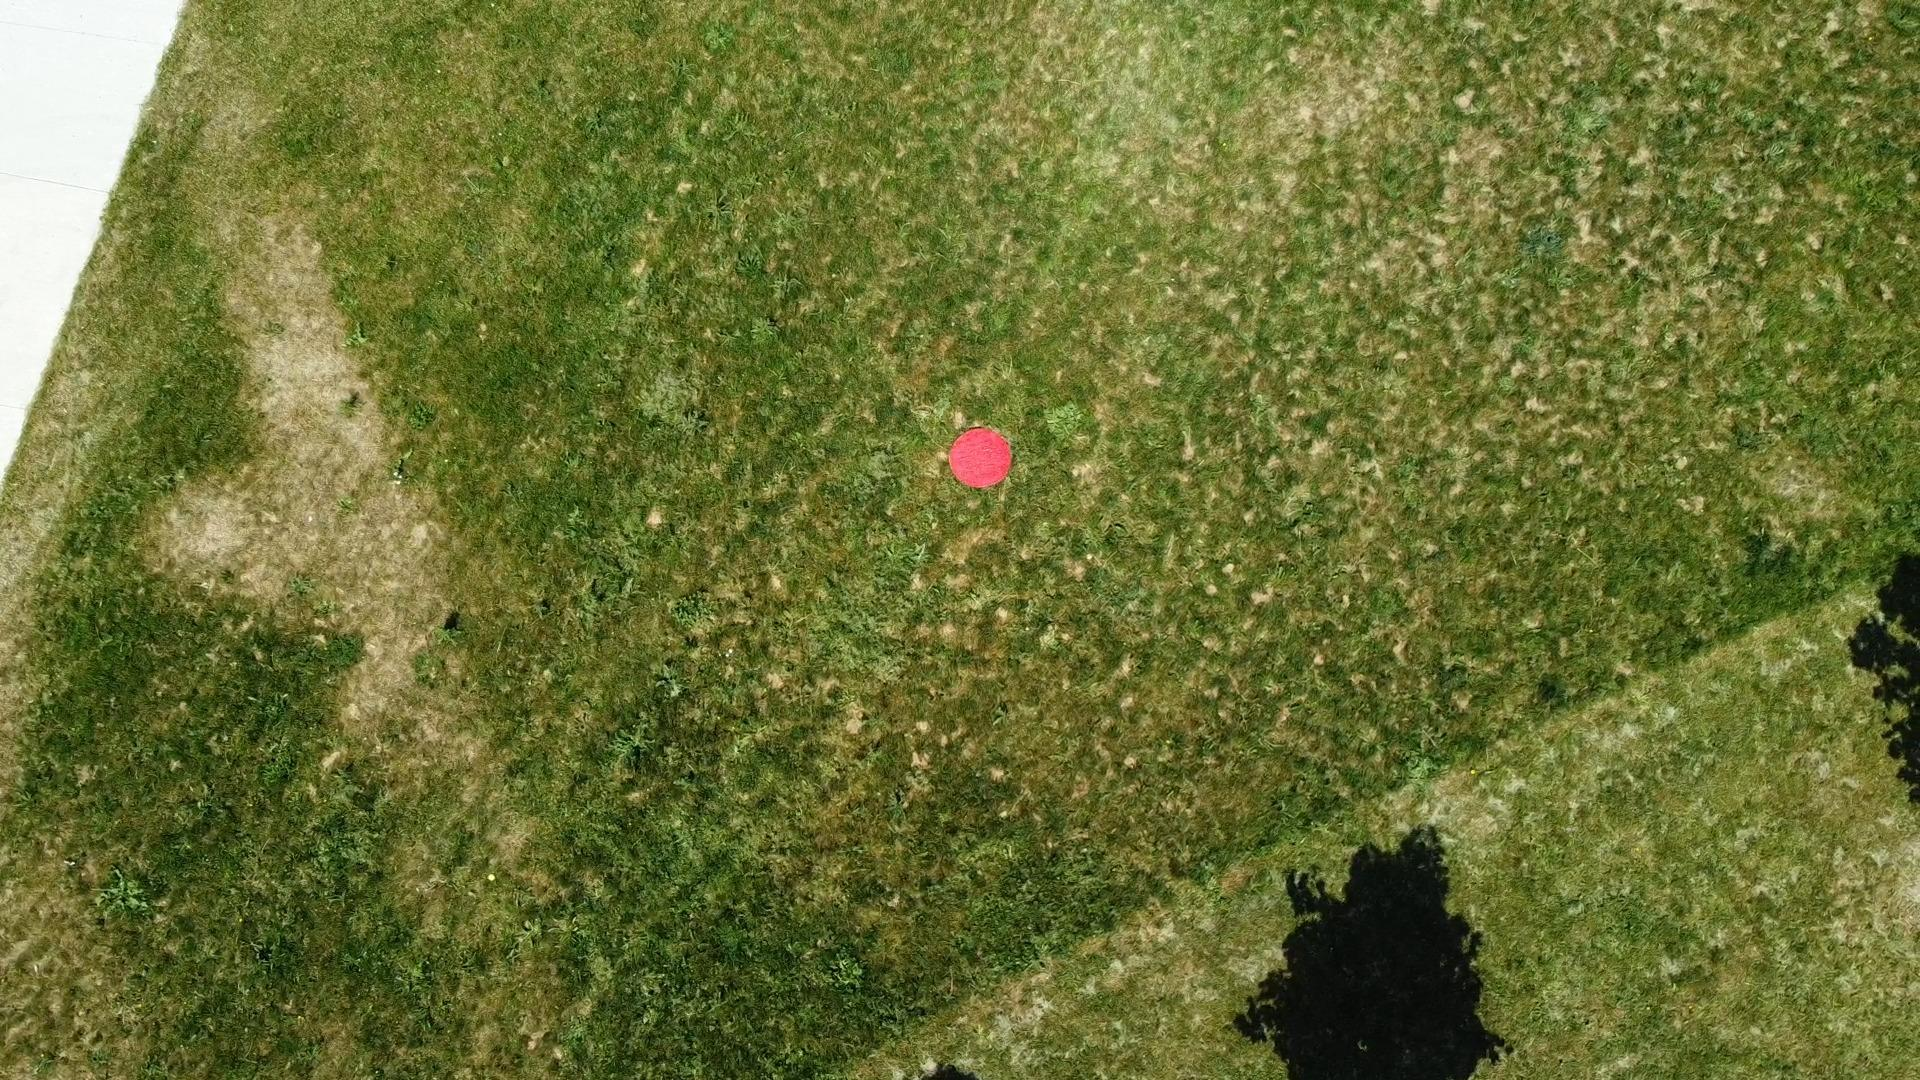Red: (947, 423, 1014, 493)
